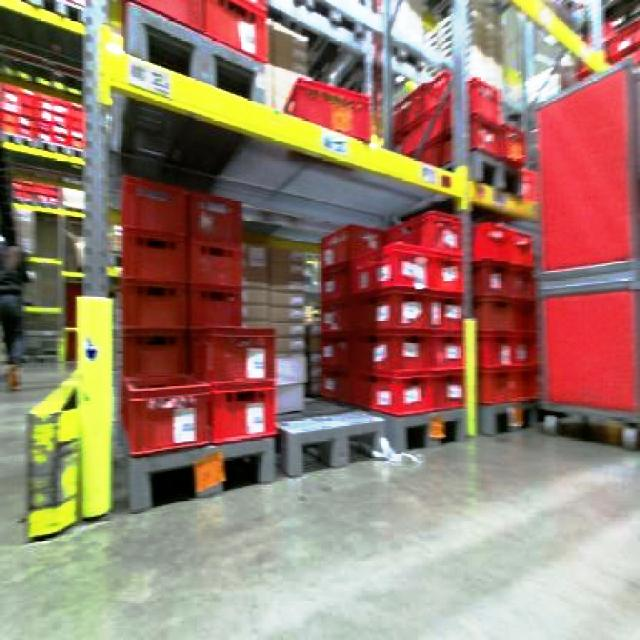ground: (0, 360, 638, 638)
pallet: (114, 172, 538, 462), (315, 208, 537, 422), (117, 172, 277, 458), (534, 51, 638, 446), (394, 42, 530, 202), (114, 0, 274, 122), (471, 218, 538, 414), (282, 55, 386, 161)
